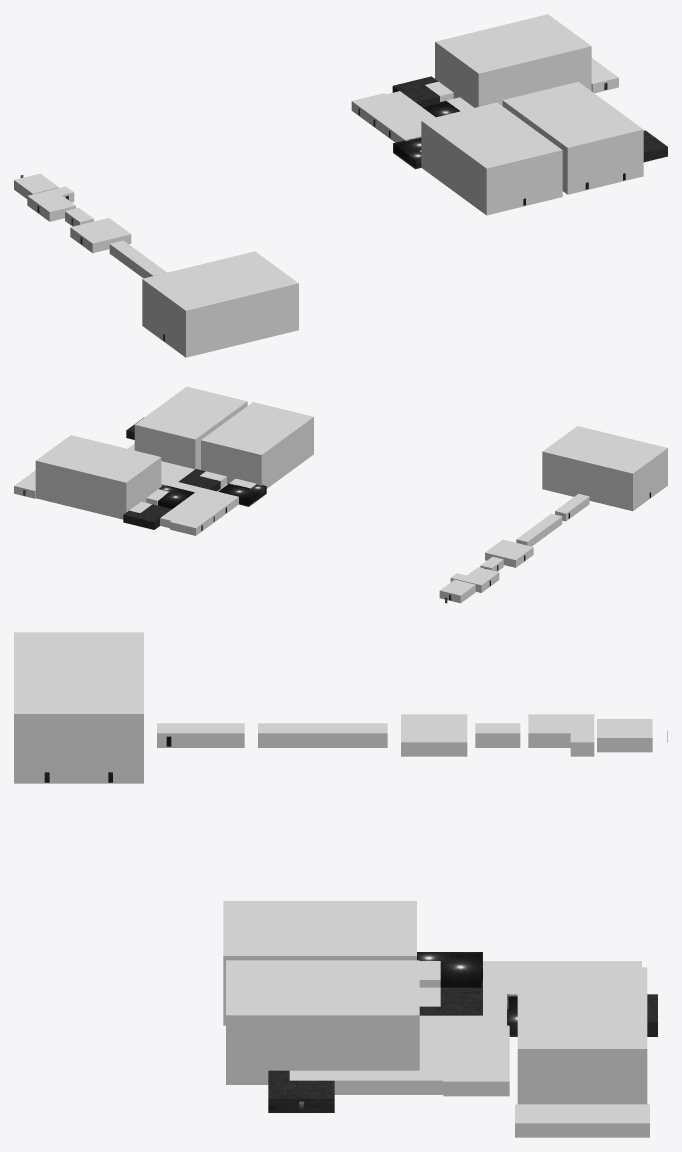
The model's file is re_factory.gltf.
The picture shows the model from 3 angles, top to bottom: view 1: azimuth 30°, elevation 25°; view 2: azimuth 150°, elevation 25°; view 3: azimuth 270°, elevation 25°; orthographic projection. The views are drawn at different scales.
Visible parts, largest first — view 1: Hala1, Hala1.002, Hala1.001, Hala1.003, Soba6, Soba3, Hodnik1, Soba3.001, Soba1, Soba3.003, Soba1.005, Soba1.004 (+4 smaller); view 2: Hala1, Hala1.001, Hala1.002, Hala1.003, Soba6, Soba3.001, Hodnik1, Soba3, Soba3.003, Soba1.005, Soba1, Hodnik2 (+7 smaller); view 3: Hala1.003, Hala1, Hala1.001, Hala1.002, Hodnik1, Soba6.002, Soba6, Hodnik1.004, Soba3, Soba3.005, Hodnik2, Soba6.001 (+10 smaller).
Boxes of the visible parts, <box> form: Hala1: <box>142,251,298,357</box>; Hala1.002: <box>421,102,562,215</box>; Hala1.001: <box>435,14,591,107</box>; Hala1.003: <box>502,81,643,194</box>; Soba6: <box>70,218,131,253</box>; Soba3: <box>27,186,75,221</box>; Hodnik1: <box>109,240,166,278</box>; Soba3.001: <box>392,76,439,106</box>; Soba1: <box>14,173,58,198</box>; Soba3.003: <box>393,137,421,169</box>; Soba1.005: <box>351,93,398,121</box>; Soba1.004: <box>367,104,413,132</box>; Hala1: <box>542,426,667,511</box>; Hala1.001: <box>35,435,161,519</box>; Hala1.002: <box>201,402,313,488</box>; Hala1.003: <box>134,386,247,469</box>; Soba6: <box>485,539,533,567</box>; Soba3.001: <box>123,504,171,529</box>; Hodnik1: <box>516,513,562,546</box>; Soba3: <box>450,567,499,592</box>; Soba3.003: <box>218,483,266,506</box>; Soba1.005: <box>170,513,207,535</box>; Soba1: <box>439,579,475,603</box>; Hodnik2: <box>555,493,589,521</box>; Hala1.003: <box>226,960,419,1084</box>; Hala1: <box>14,632,143,783</box>; Hala1.001: <box>517,967,647,1104</box>; Hala1.002: <box>223,901,416,1025</box>; Hodnik1: <box>258,723,387,747</box>; Soba6.002: <box>443,1053,509,1096</box>; Soba6: <box>401,714,467,756</box>; Hodnik1.004: <box>289,1070,419,1094</box>; Soba3: <box>528,714,594,756</box>; Soba3.005: <box>268,1070,334,1112</box>; Hodnik2: <box>157,723,244,747</box>; Soba6.001: <box>443,1025,509,1053</box>.
Bounding box in the file's own units: 194 × 14.51 × 123.
134 materials, 107 textured.
